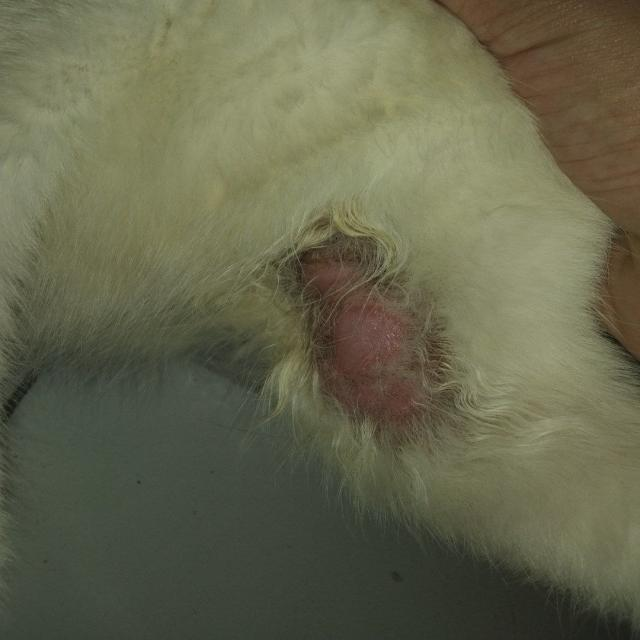hac lao: (212, 168, 496, 469)
